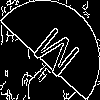M: (25, 25, 82, 87)
